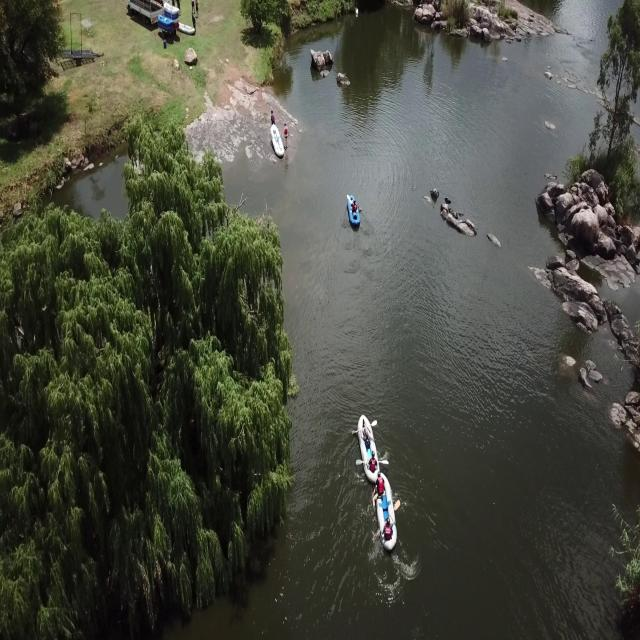kayak: (353, 411, 383, 478), (371, 473, 400, 542), (345, 195, 362, 232)
